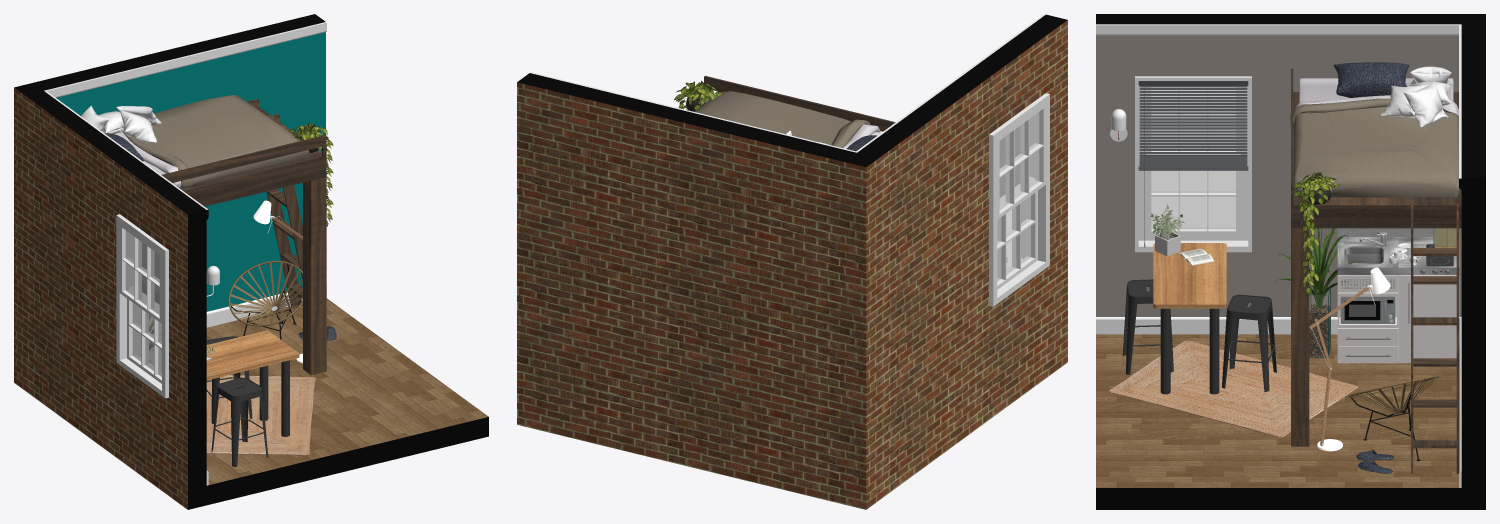
The model's file is isometric_room.glb.
3 renders of one model, left to right at view 1: azimuth 30°, elevation 25°; view 2: azimuth 150°, elevation 25°; view 3: azimuth 270°, elevation 25°, orthographic. The views are drawn at different scales.
Visible parts, largest first — view 1: Object_11, Object_37, Object_40, Object_66, Object_78, Object_64, Object_52, Object_35, Object_58, Object_48, Object_102, Object_74 (+4 smaller); view 2: Object_11, Object_52, Object_66, Object_64, Object_74, Object_78, Object_58; view 3: Object_41, Object_40, Object_66, Object_64, Object_78, Object_58, Object_35, Object_46, Object_62, Object_74, Object_48, Object_52 (+22 smaller).
Boxes of the visible parts, bbox=[...] form: Object_11: bbox=[14, 87, 187, 509]; Object_37: bbox=[56, 32, 325, 311]; Object_40: bbox=[206, 298, 488, 484]; Object_66: bbox=[14, 14, 488, 509]; Object_78: bbox=[162, 99, 326, 375]; Object_64: bbox=[123, 95, 309, 189]; Object_52: bbox=[98, 111, 168, 398]; Object_35: bbox=[206, 375, 315, 455]; Object_58: bbox=[44, 22, 326, 485]; Object_48: bbox=[206, 336, 268, 466]; Object_102: bbox=[206, 330, 299, 380]; Object_74: bbox=[125, 231, 161, 376]; Object_11: bbox=[517, 20, 1067, 509]; Object_52: bbox=[989, 93, 1049, 306]; Object_66: bbox=[517, 14, 1067, 167]; Object_64: bbox=[694, 91, 870, 147]; Object_74: bbox=[997, 112, 1039, 281]; Object_78: bbox=[704, 75, 895, 131]; Object_58: bbox=[530, 14, 1045, 270]; Object_41: bbox=[1096, 35, 1461, 316]; Object_40: bbox=[1096, 334, 1458, 487]; Object_66: bbox=[1096, 14, 1485, 509]; Object_64: bbox=[1290, 98, 1459, 197]; Object_78: bbox=[1291, 68, 1461, 473]; Object_58: bbox=[1096, 24, 1461, 487]; Object_35: bbox=[1108, 340, 1358, 437]; Object_46: bbox=[1138, 81, 1248, 247]; Object_62: bbox=[1155, 235, 1456, 363]; Object_74: bbox=[1151, 87, 1235, 229]; Object_48: bbox=[1122, 244, 1453, 394]; Object_52: bbox=[1138, 81, 1450, 240].
Bounding box in the file's own units: 324 × 300 × 320.
92 materials, 57 textured.
